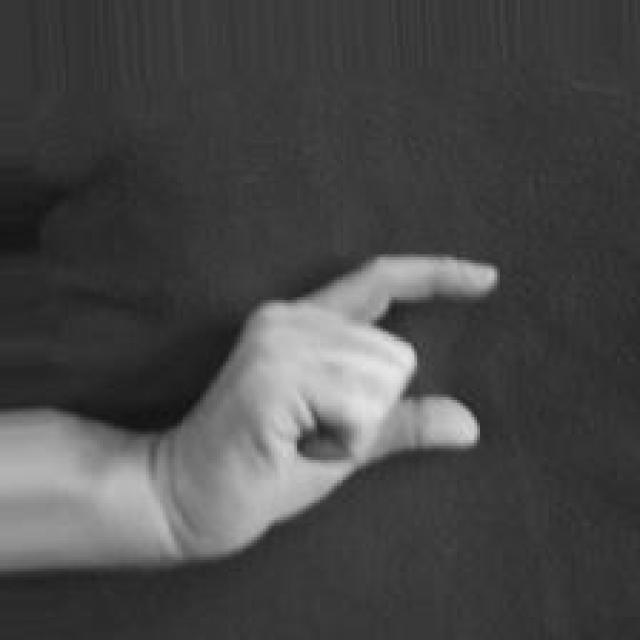C: (160, 249, 498, 564)
